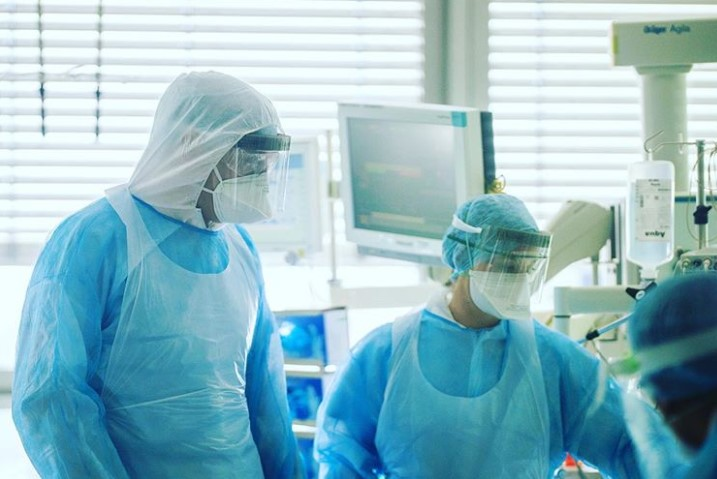face_with_mask: (131, 74, 284, 230), (446, 198, 553, 320)
